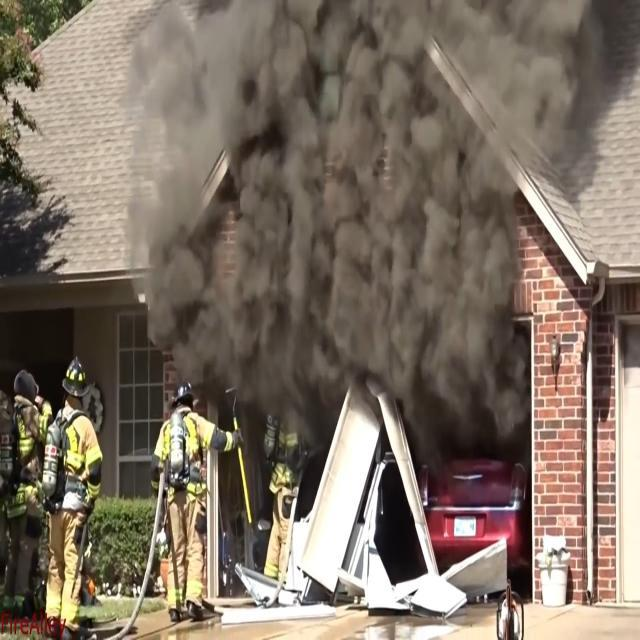Smoke: (170, 36, 516, 373)
